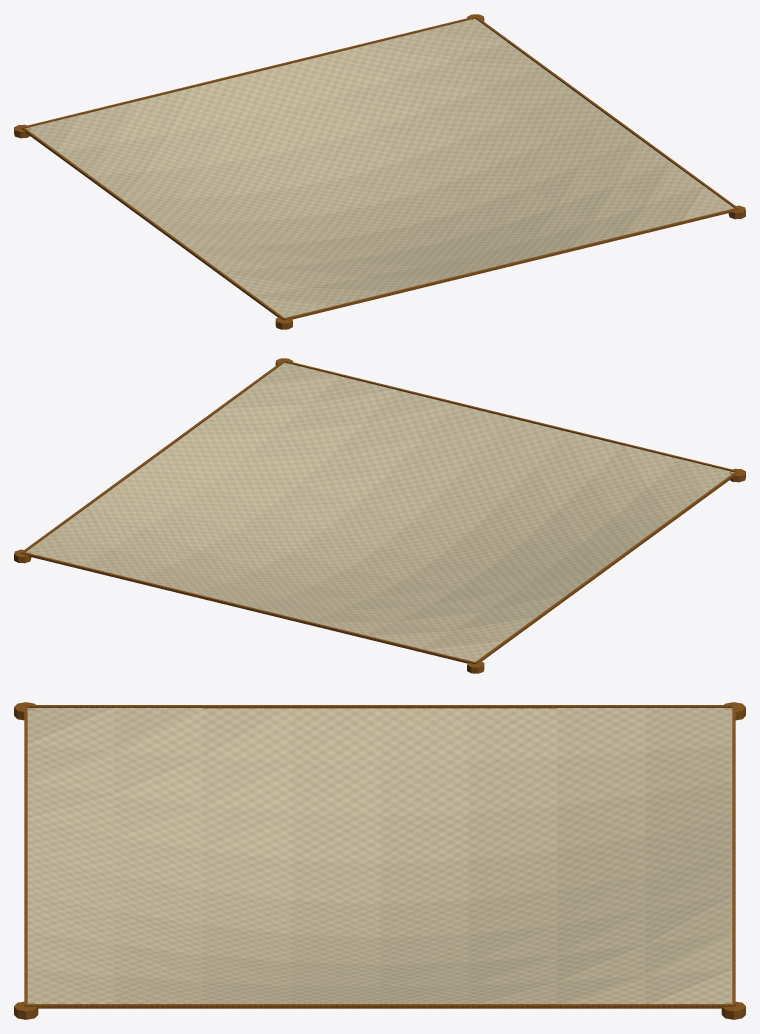
3 views of the same model, one above another, from view 1: azimuth 30°, elevation 25°; view 2: azimuth 150°, elevation 25°; view 3: azimuth 270°, elevation 25° (orthographic). The views are drawn at different scales.
Parts seen in each view (by area): view 1: LOD1__Taut woven removable canopy with shallow sag, LOD1__Canopy sewn tension edge, LOD1__Canopy sewn tension edge.002, LOD1__Canopy sewn tension edge.003, LOD1__Canopy sewn tension edge.001; view 2: LOD1__Taut woven removable canopy with shallow sag, LOD1__Canopy sewn tension edge.002, LOD1__Canopy sewn tension edge, LOD1__Canopy sewn tension edge.003, LOD1__Canopy sewn tension edge.001; view 3: LOD1__Taut woven removable canopy with shallow sag, LOD1__Canopy sewn tension edge.001, LOD1__Canopy sewn tension edge.003, LOD1__Canopy sewn tension edge, LOD1__Canopy sewn tension edge.002.
Part boxes in pixels (box(x1,y1,x2,y2)): LOD1__Taut woven removable canopy with shallow sag: box(26, 18, 733, 317); LOD1__Canopy sewn tension edge: box(284, 208, 737, 320); LOD1__Canopy sewn tension edge.002: box(22, 16, 475, 128); LOD1__Canopy sewn tension edge.003: box(21, 127, 284, 319); LOD1__Canopy sewn tension edge.001: box(475, 16, 738, 208); LOD1__Taut woven removable canopy with shallow sag: box(26, 362, 733, 661); LOD1__Canopy sewn tension edge.002: box(22, 552, 475, 664); LOD1__Canopy sewn tension edge: box(284, 360, 737, 472); LOD1__Canopy sewn tension edge.003: box(475, 471, 738, 663); LOD1__Canopy sewn tension edge.001: box(21, 360, 284, 552); LOD1__Taut woven removable canopy with shallow sag: box(27, 708, 732, 1003); LOD1__Canopy sewn tension edge.001: box(26, 1004, 733, 1008); LOD1__Canopy sewn tension edge.003: box(26, 705, 733, 708); LOD1__Canopy sewn tension edge: box(24, 705, 27, 1006); LOD1__Canopy sewn tension edge.002: box(732, 705, 735, 1006).
Size of the model in its own units: 3.93 by 0.293 by 3.93.
Materials: 2 (2 with a texture image).
